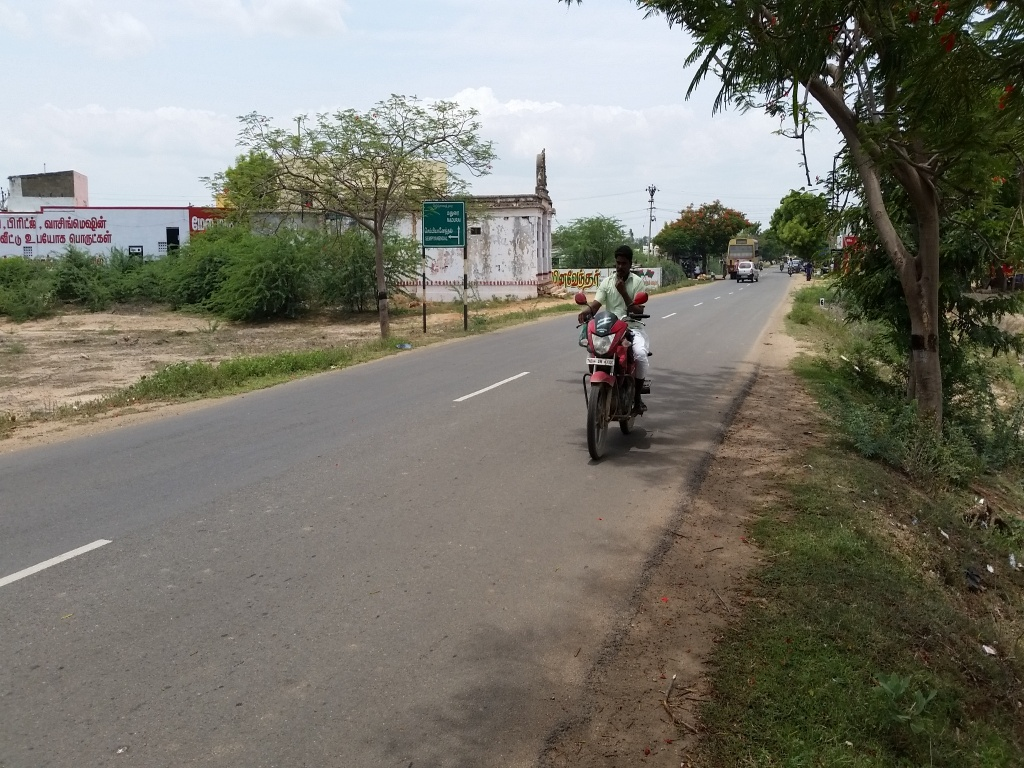biker: (556, 215, 677, 476)
nohelmet: (608, 233, 643, 283)
